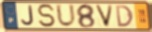8: (75, 3, 97, 29)
D: (114, 4, 135, 28)
J: (21, 5, 35, 27)
S: (36, 3, 58, 29)
U: (54, 3, 77, 28)
V: (94, 4, 115, 28)
